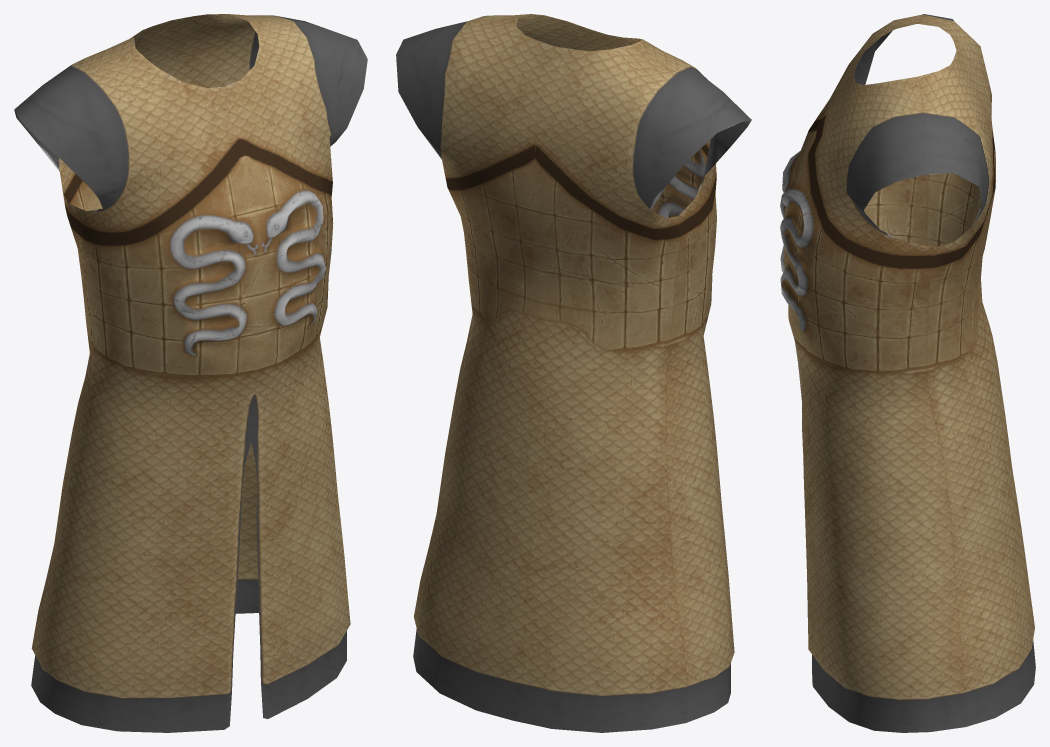
The model's file is clo_harad07_torso.fbx.
The picture shows the model from 3 angles, left to right: view 1: azimuth 30°, elevation 25°; view 2: azimuth 150°, elevation 25°; view 3: azimuth 270°, elevation 25°; orthographic projection. The views are drawn at different scales.
Parts seen in each view (by area): view 1: clo_harad07_torso; view 2: clo_harad07_torso; view 3: clo_harad07_torso.
Part boxes in pixels (bbox=[...]): clo_harad07_torso: bbox=[14, 14, 367, 732]; clo_harad07_torso: bbox=[396, 14, 751, 732]; clo_harad07_torso: bbox=[780, 14, 1035, 732].
Size of the model in its own units: 0.6039 by 0.413 by 1.12.
1 material, 1 textured.
